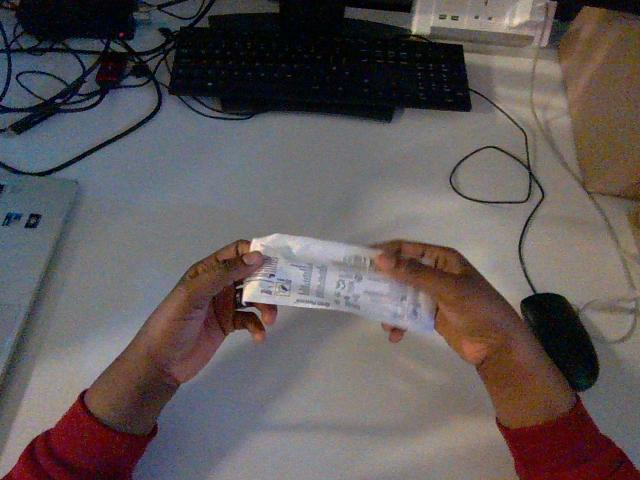syringe: (242, 234, 434, 332)
